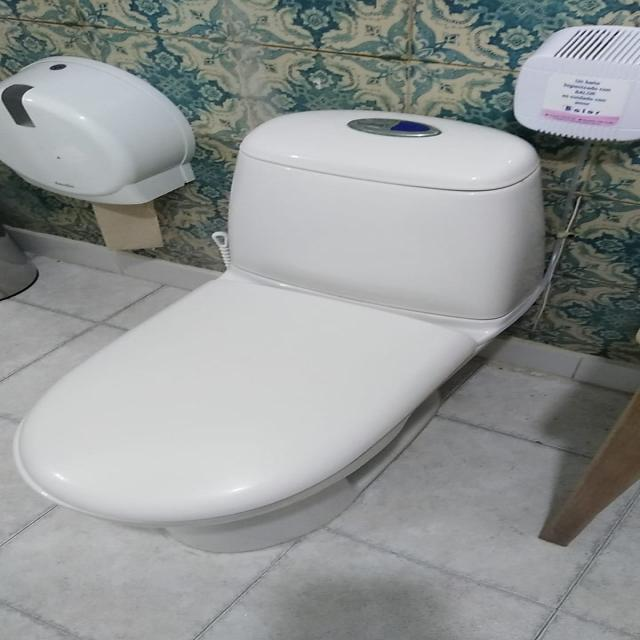toilet: (12, 108, 550, 553)
